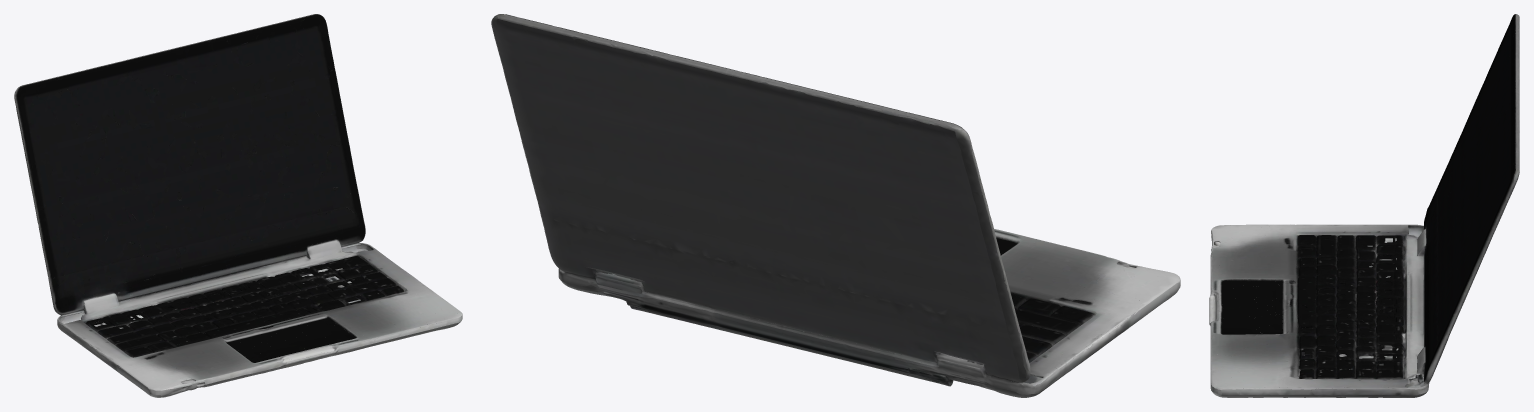
Rendered from parts.glb.
3 views of the same model, side by side, from view 1: azimuth 30°, elevation 25°; view 2: azimuth 150°, elevation 25°; view 3: azimuth 270°, elevation 25° (orthographic). The views are drawn at different scales.
Bounding box in the file's own units: 0.31 × 0.2055 × 0.2472.
1 material, 1 textured.
